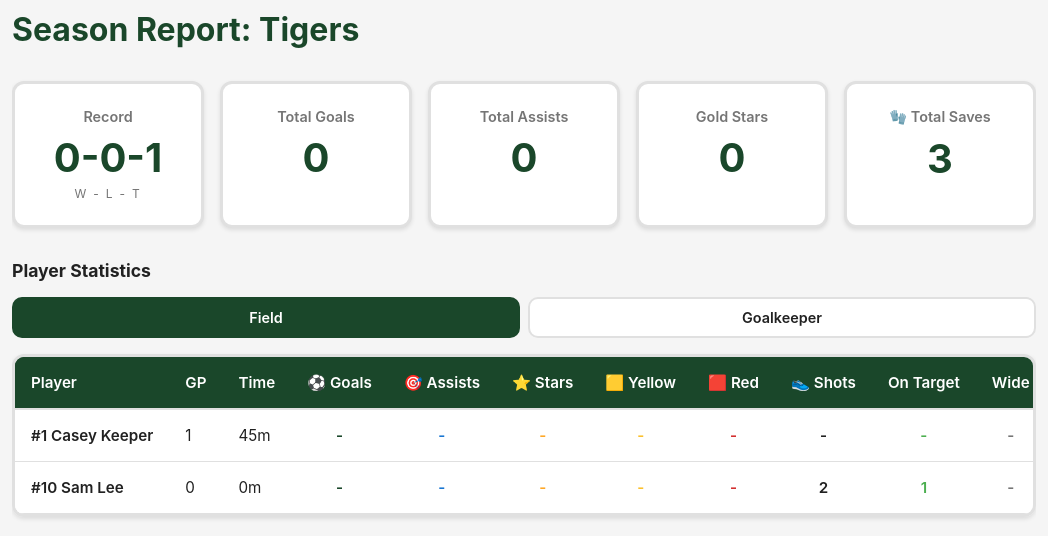
Test: TeamReport › Issue #203: Saves by Goalie › switching to the Goalkeeper tab changes aria-label and shows only keeper-experienced players
Check: the table named "Player season statistics" is shown, box [15, 357, 1036, 514]
Click the tab "Goalkeeper" at (782, 317), box [528, 297, 1036, 338]
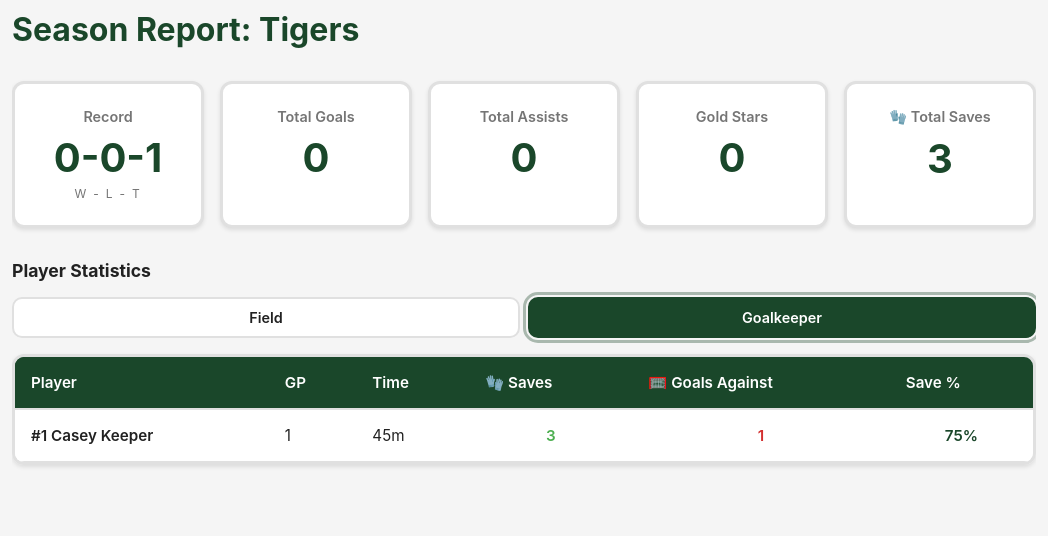
Check: the text "#1 Casey Keeper" is shown, box [15, 409, 269, 461]
Check: the table named "Goalkeeper season statistics" is shown, box [15, 357, 1033, 462]
Check: the text "Sam Lee" is gone
